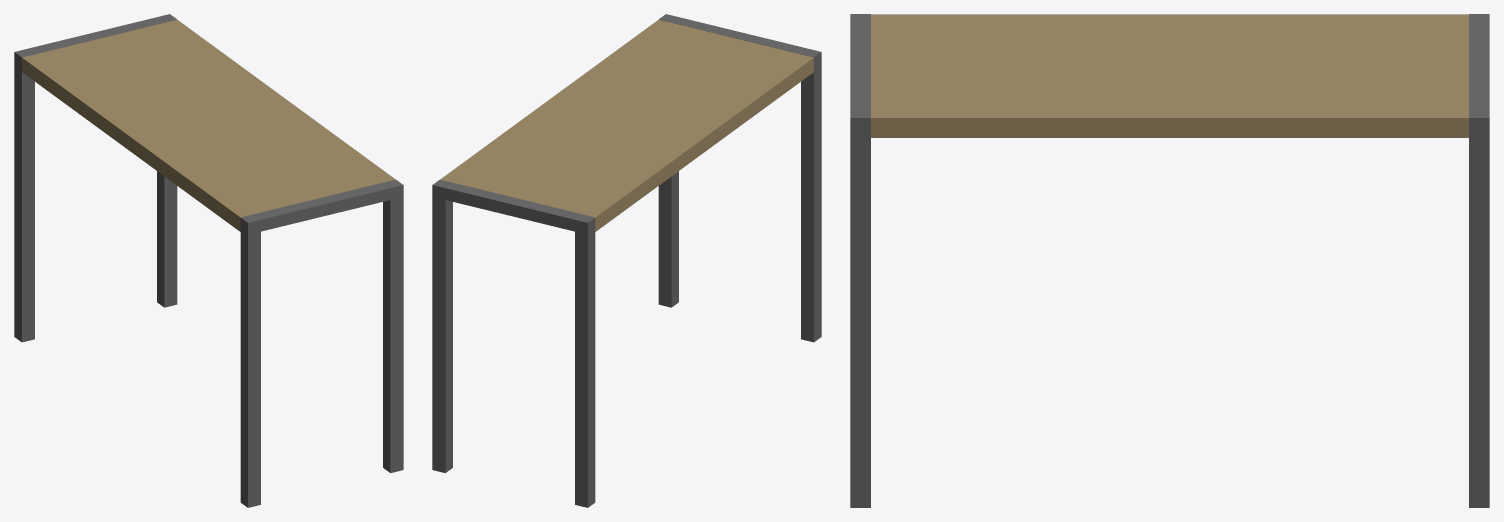
The model's file is Table.fbx.
3 renders of one model, left to right at view 1: azimuth 30°, elevation 25°; view 2: azimuth 150°, elevation 25°; view 3: azimuth 270°, elevation 25°, orthographic. The views are drawn at different scales.
Visible parts, largest first — view 1: Cube, Cube.003; view 2: Cube, Cube.003; view 3: Cube, Cube.003.
Boxes of the visible parts, <box> form: Cube: <box>14,14,403,507</box>; Cube.003: <box>22,27,240,230</box>; Cube: <box>432,14,821,507</box>; Cube.003: <box>457,29,813,231</box>; Cube: <box>850,14,1489,507</box>; Cube.003: <box>871,56,1468,137</box>.
Bounding box in the file's own units: 59.56 × 104 × 155.
